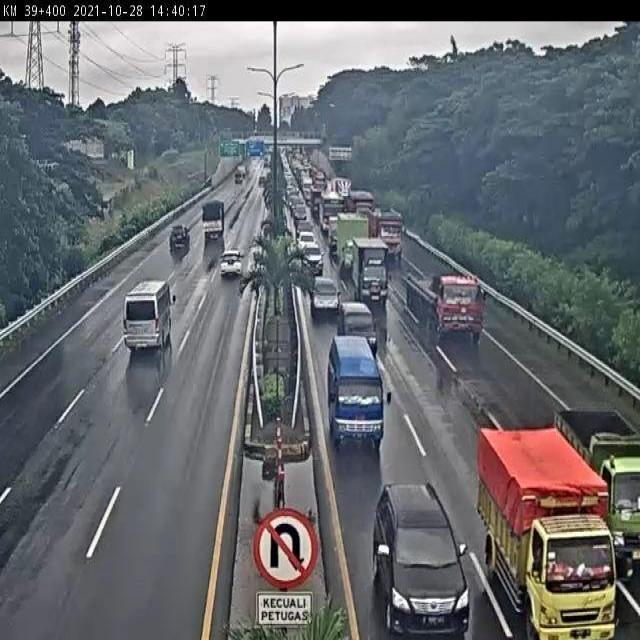ARABA: (336, 303, 380, 356), (309, 279, 342, 321), (300, 241, 325, 279), (219, 248, 243, 280), (167, 223, 191, 252)
KAMYONET: (353, 239, 391, 313), (336, 212, 370, 281)
OTOBUS: (326, 336, 385, 455), (122, 277, 172, 352)
TIR: (408, 271, 486, 341), (369, 205, 403, 259)
